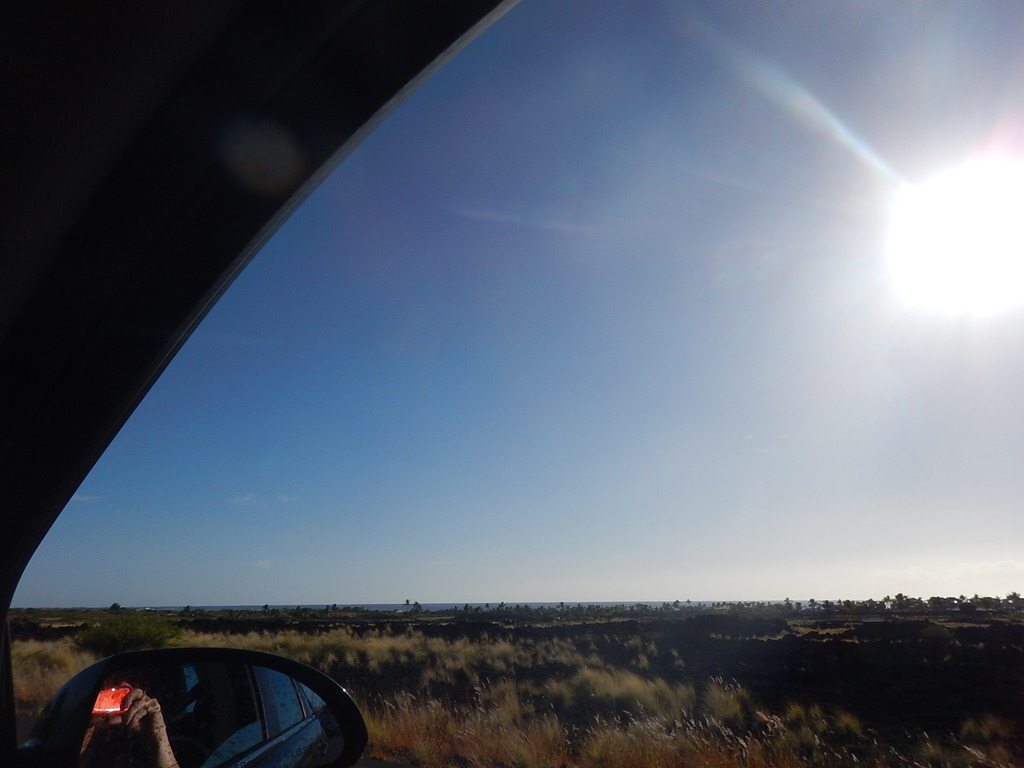Car: (0, 0, 529, 767)
